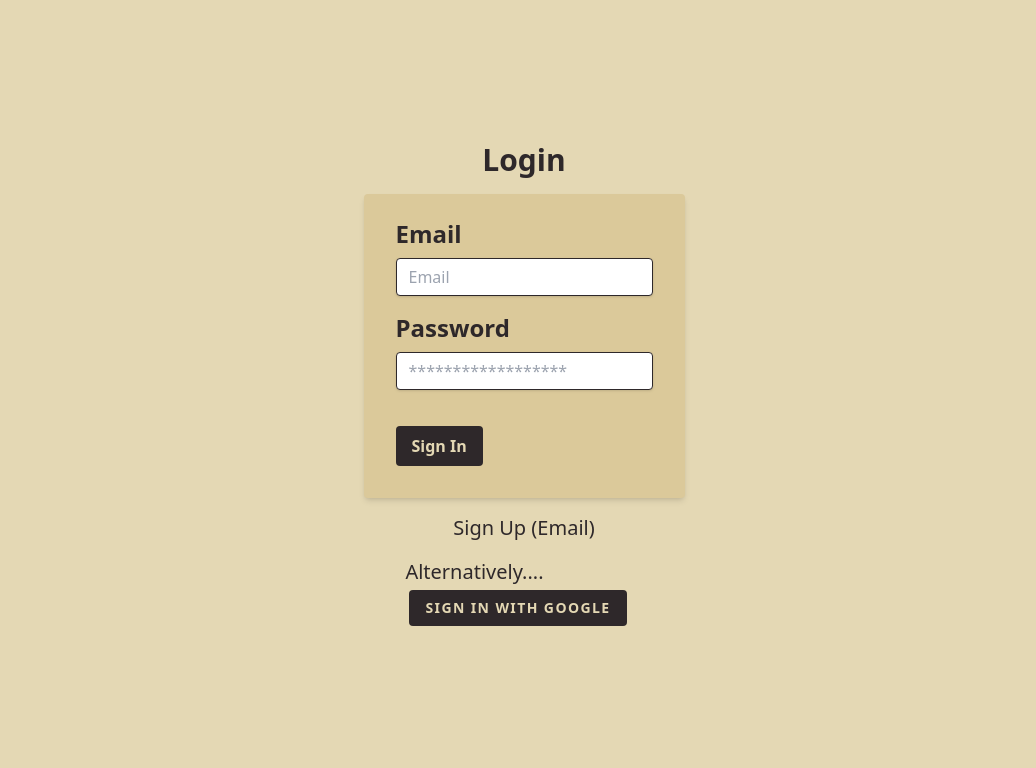
Test case: test for login page component › should render the link to go to the register page
Click the link "Sign Up (Email)" at [524, 528], box [453,514,595,542]
(page scrolled)
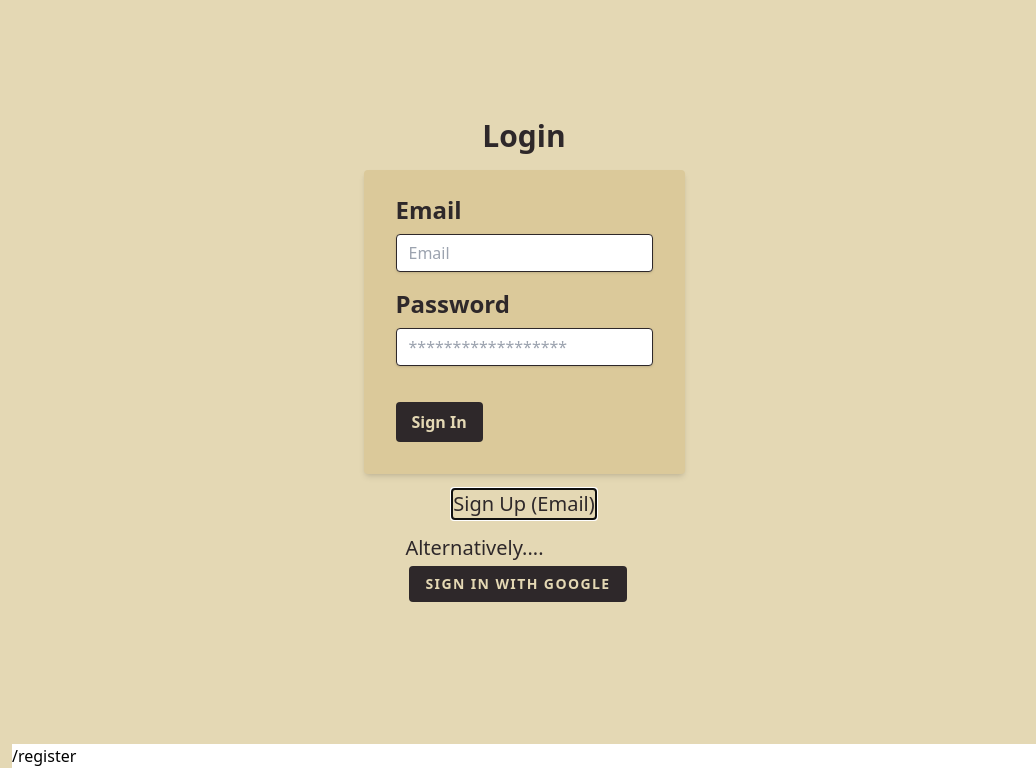
Expected: the text with test id "pathname" reads "/register", [12,745,76,767]
